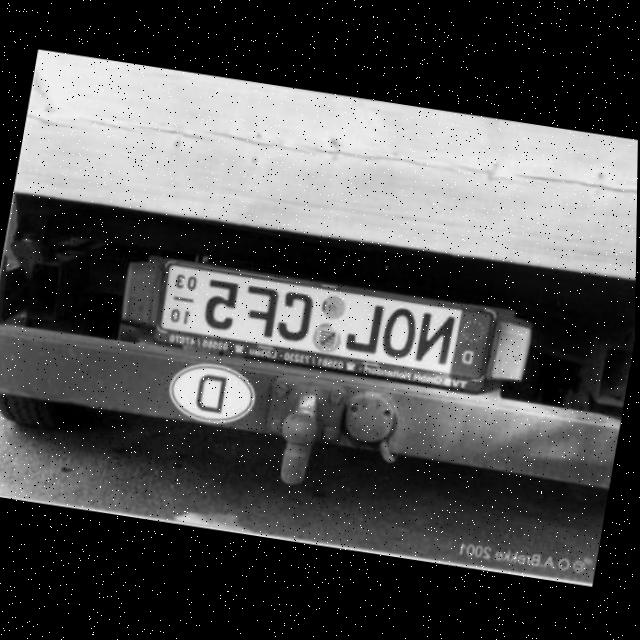license-plates: (160, 265, 459, 374), (449, 311, 494, 381)
